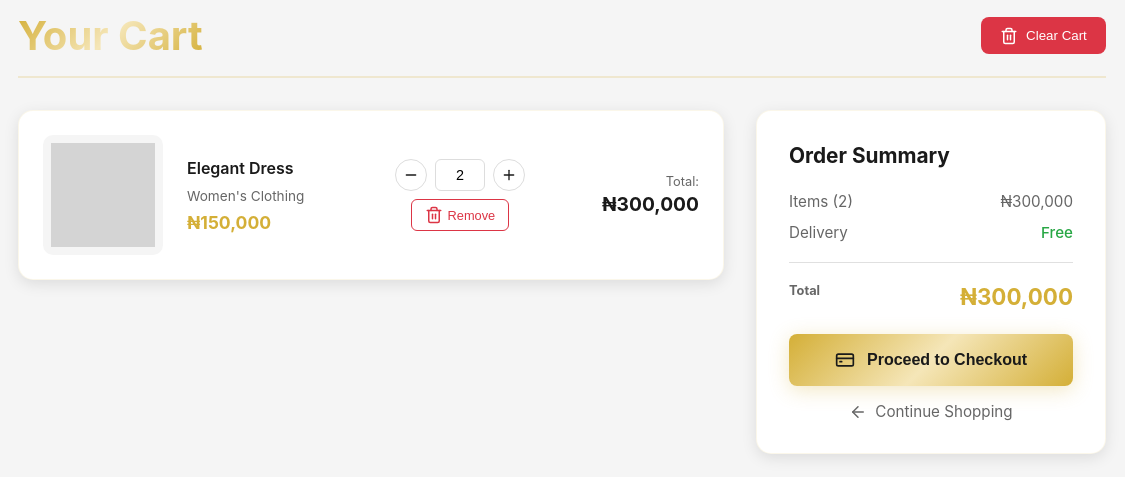
it: Cart Page › clears all items
Click the button "Clear Cart" at (1043, 36), box [981, 17, 1106, 54]
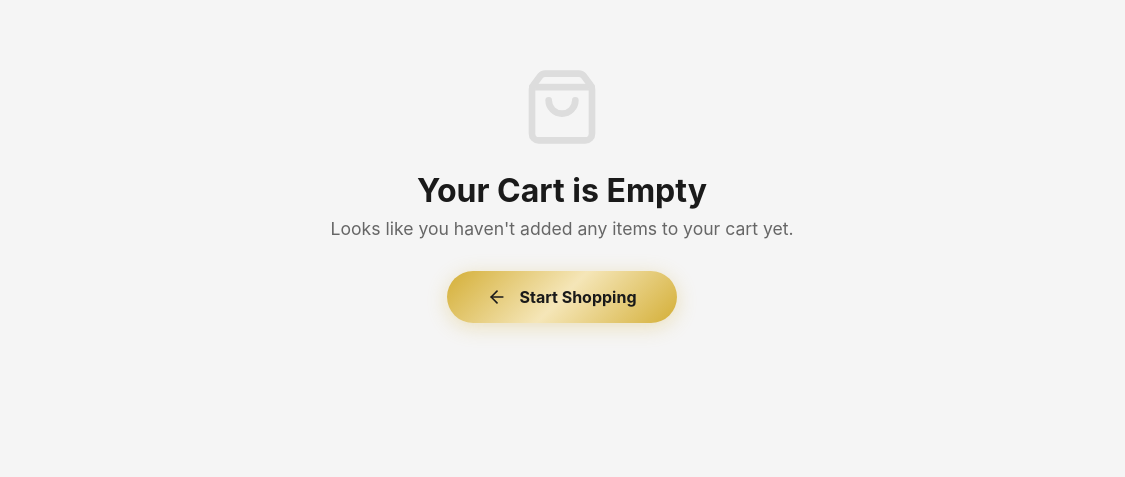
Expected: the heading "Your Cart is Empty" is shown, [417, 171, 707, 210]
